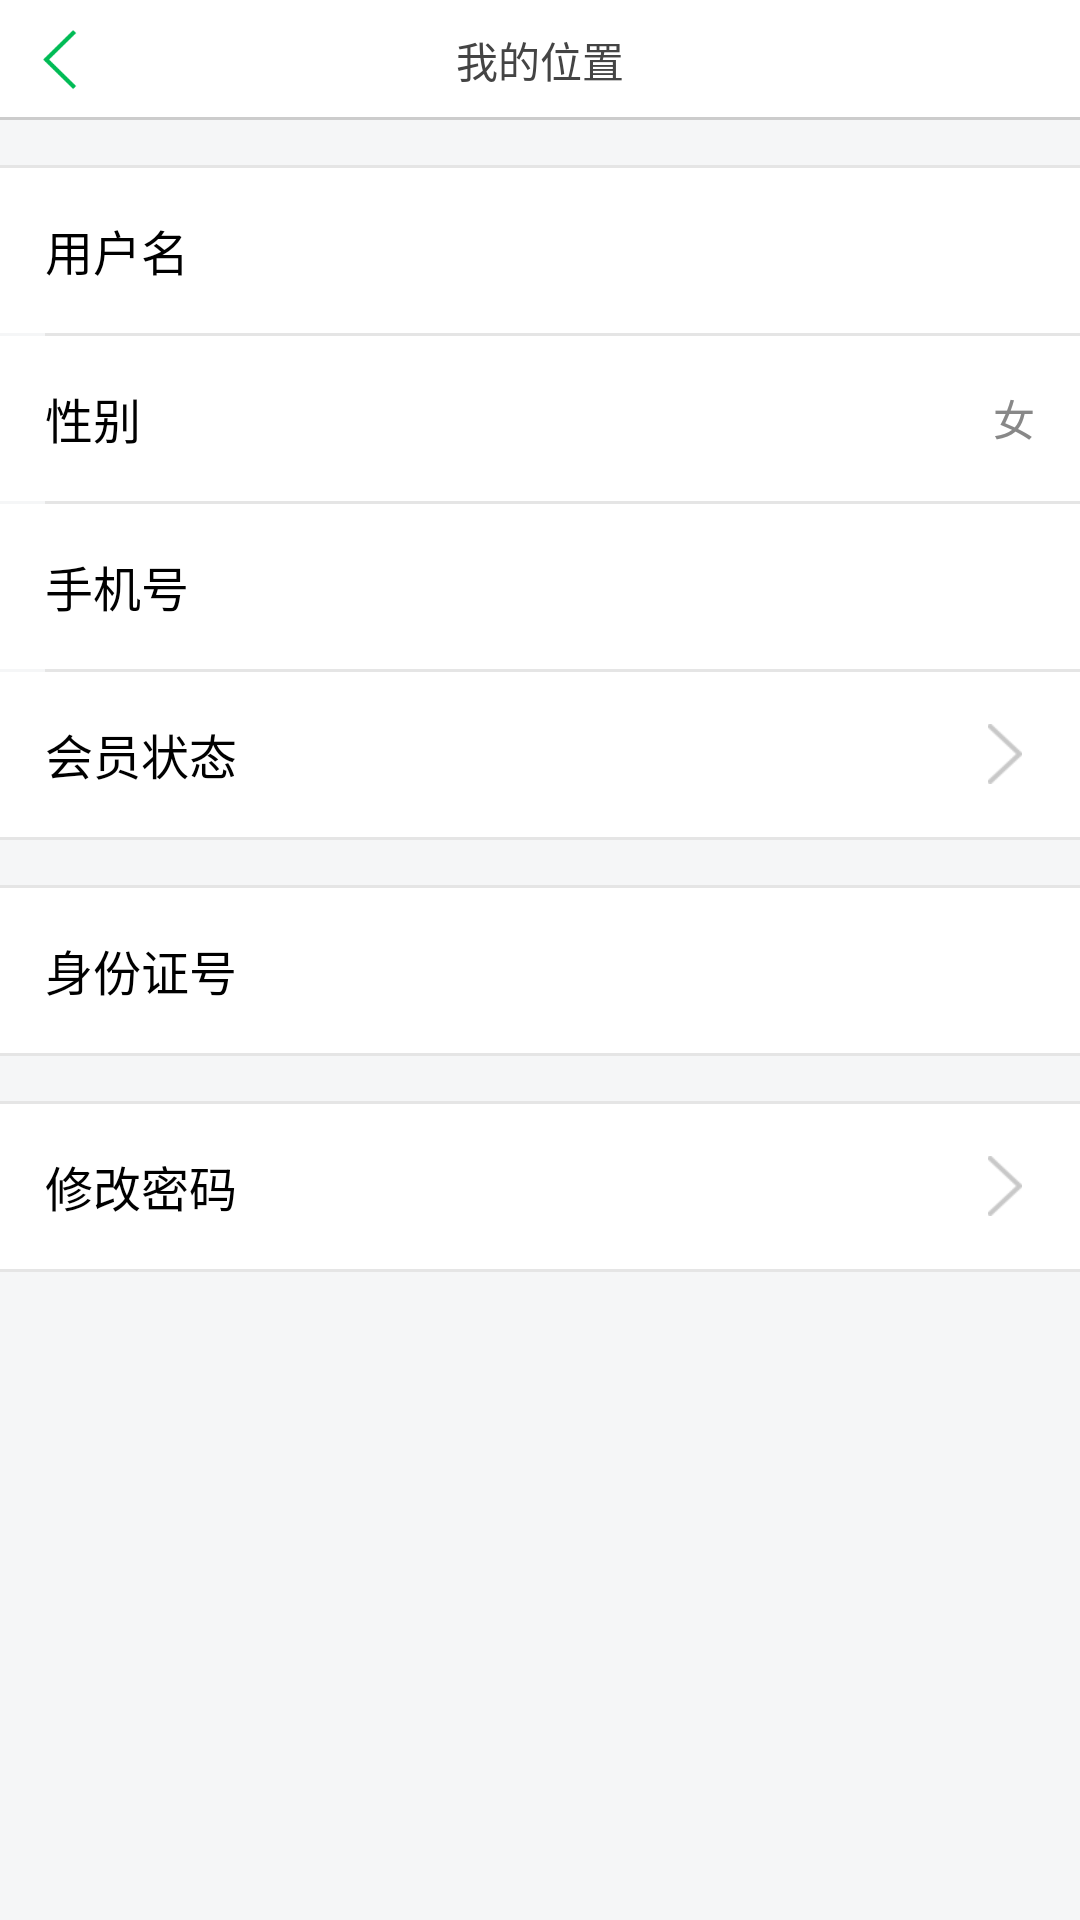

Screen size 1080 × 1920. Icon name, then its center in pixels as (x,y):
arrow right: (1005,754), (1005,1186)
